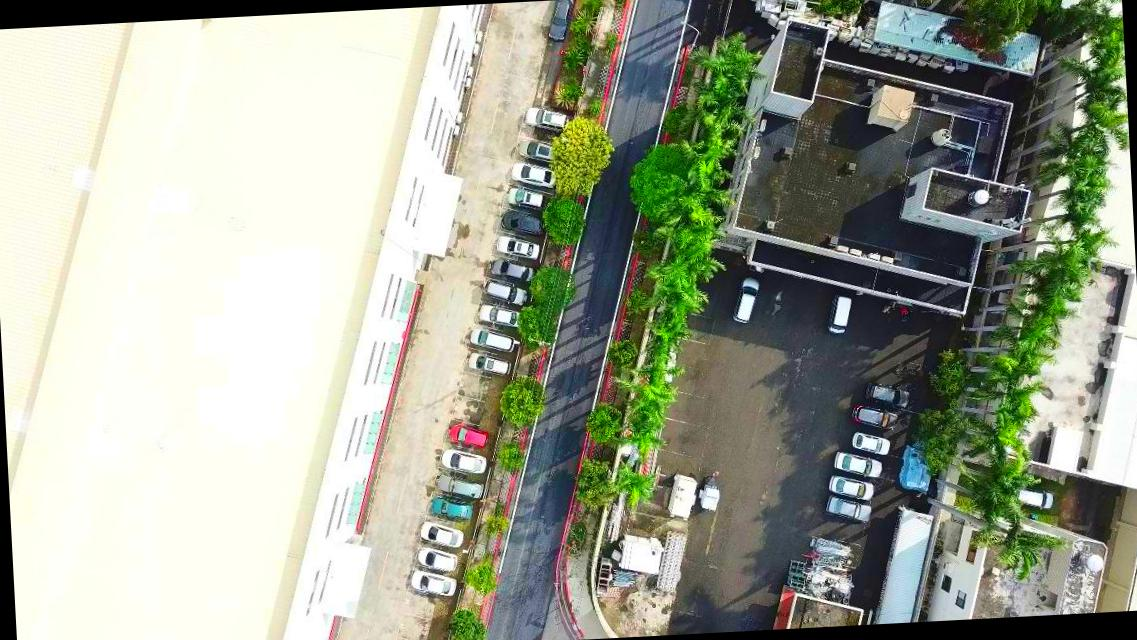vehicle: (484, 256, 536, 290), (510, 158, 560, 192), (409, 566, 456, 598), (864, 379, 909, 412), (476, 298, 522, 330), (851, 401, 898, 432), (834, 449, 882, 479), (437, 471, 483, 502), (418, 518, 464, 549), (825, 494, 872, 524), (522, 104, 569, 134), (442, 447, 487, 478), (828, 474, 874, 504), (500, 208, 546, 238), (731, 277, 759, 324), (485, 278, 526, 310), (505, 185, 551, 213), (494, 234, 540, 262), (825, 292, 854, 336), (470, 325, 514, 353), (1010, 484, 1054, 512), (468, 349, 510, 378), (417, 544, 458, 573), (546, 0, 574, 42), (518, 136, 560, 164), (429, 496, 474, 522), (448, 422, 489, 450), (850, 428, 888, 458)
